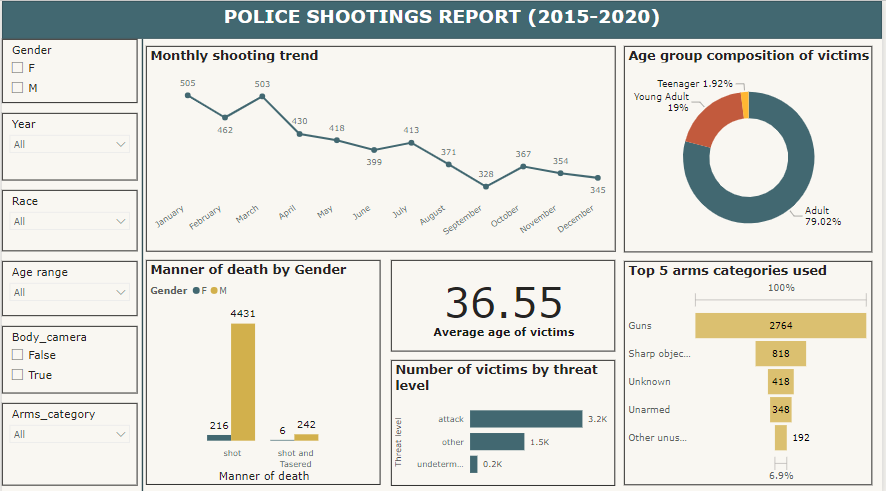

Layout of this report page (visuals, bound fields, positions):
{"tool":"powerbi","page":{"name":"Victim analysis","canvas":[1280,720],"ordinal":1},"visuals":[{"type":"shape","box":[0,0,1280.2,54.7],"z":0},{"type":"textbox","box":[0,0,1280,65.9],"z":1000},{"type":"shape","box":[197.3,54.7,13,665.3],"z":2000},{"type":"slicer","fields":{"Values":["shootings.gender"]},"box":[0,55.4,196.6,93],"z":3000},{"type":"slicer","fields":{"Values":["shootings.Age range"]},"box":[0,377.9,196.6,80.4],"z":4000},{"type":"slicer","fields":{"Values":["shootings.race"]},"box":[0,274.6,196.6,89.4],"z":5000},{"type":"slicer","fields":{"Values":["shootings.body_camera"]},"box":[0,472.3,196.6,98.3],"z":6000},{"type":"slicer","fields":{"Values":["shootings.arms_category"]},"box":[0,584.6,196.6,119.8],"z":7000},{"type":"slicer","fields":{"Values":["shootings.date.Variation.Date Hierarchy.Year"]},"box":[0,162.3,196.6,98.3],"z":8000},{"type":"lineChart","title":"Monthly shooting trend","fields":{"Category":["shootings.date.Variation.Date Hierarchy.Month"],"Y":["CountNonNull(shootings.Age range)"]},"box":[209.2,66.1,682.9,298.5],"z":9000},{"type":"donutChart","title":"Age group composition of victims","fields":{"Category":["shootings.Age range"],"Y":["CountNonNull(shootings.id)"]},"box":[904.7,65.6,361,299.7],"z":10000},{"type":"clusteredColumnChart","title":"Manner of death by Gender","fields":{"Category":["shootings.manner_of_death"],"Series":["shootings.gender"],"Y":["CountNonNull(shootings.id)"]},"box":[209.2,377.2,341.5,327.2],"z":11000},{"type":"clusteredBarChart","title":"Number of victims by threat level","fields":{"Category":["shootings.threat_level"],"Y":["CountNonNull(shootings.id)"]},"box":[565.5,521.6,326,182.8],"z":12000},{"type":"card","fields":{"Values":["Avg(shootings.age)"]},"box":[565.5,377,326,133.2],"z":13000},{"type":"funnel","title":"Top 5 arms categories used","fields":{"Category":["shootings.arms_category"],"Y":["Count(shootings.id)"]},"box":[904.3,378.4,361.4,326],"z":14000}]}

Visuals, with their boxes in screenshot pixels (x1, y1, x2, y2), scaled from the page's 1280x720 canvas onto the 886x491 screenshot:
shape: Rect(0, 0, 885, 37)
textbox: Rect(0, 0, 885, 45)
shape: Rect(137, 37, 146, 490)
slicer - shootings.gender: Rect(0, 38, 136, 101)
slicer - shootings.Age range: Rect(0, 258, 136, 313)
slicer - shootings.race: Rect(0, 187, 136, 248)
slicer - shootings.body_camera: Rect(0, 322, 136, 389)
slicer - shootings.arms_category: Rect(0, 399, 136, 480)
slicer - shootings.date.Variation.Date Hierarchy.Year: Rect(0, 111, 136, 178)
"Monthly shooting trend" lineChart: Rect(145, 45, 618, 249)
"Age group composition of victims" donutChart: Rect(626, 45, 876, 249)
"Manner of death by Gender" clusteredColumnChart: Rect(145, 257, 381, 480)
"Number of victims by threat level" clusteredBarChart: Rect(391, 356, 617, 480)
card - Avg(shootings.age): Rect(391, 257, 617, 348)
"Top 5 arms categories used" funnel: Rect(626, 258, 876, 480)
